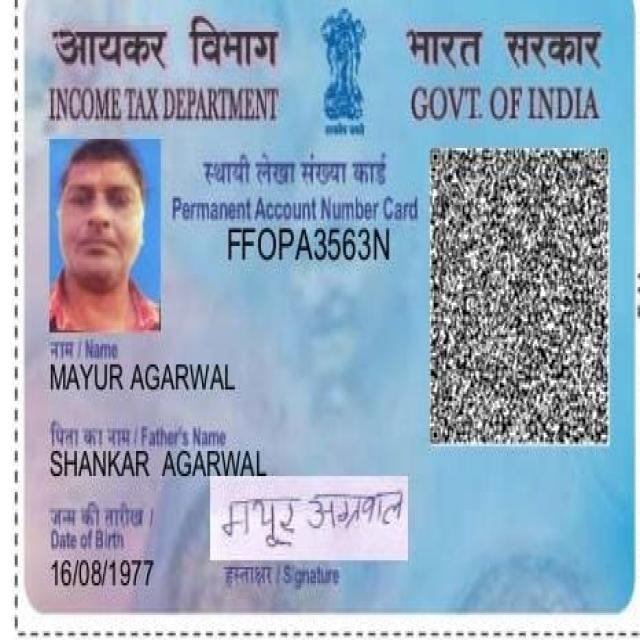pan_card: (24, 4, 636, 605)
